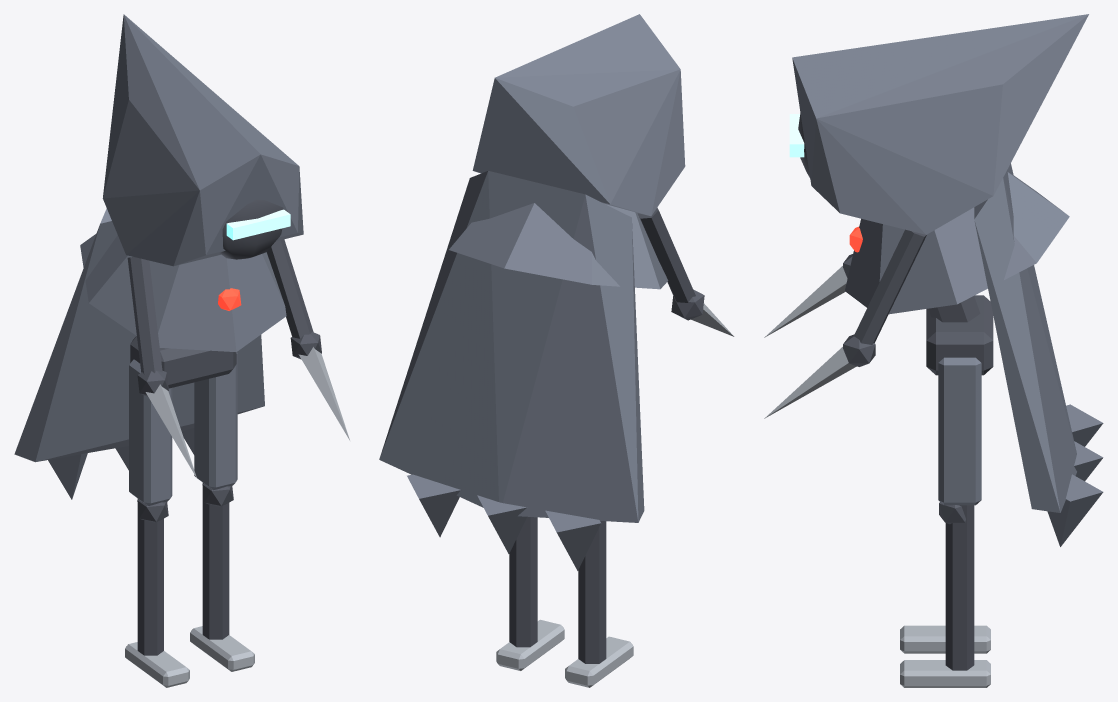
Rendered from cloaker.glb.
3 views of the same model, side by side, from view 1: azimuth 30°, elevation 25°; view 2: azimuth 150°, elevation 25°; view 3: azimuth 270°, elevation 25° (orthographic). The views are drawn at different scales.
Parts seen in each view (by area): view 1: Hood, Cape, Cone, Cube.001, Cube.003, Cylinder, Cylinder.001, Cylinder.003, Cube, Cylinder.004, Sphere, Cube.002 (+9 smaller); view 2: Cape, Hood, Cone, Cylinder.001, Cylinder, Cylinder.003, Cone.001, Cube.002, Cone.003, Cube.004, Cone.002, Icosphere.003; view 3: Hood, Cape, Cone, Cube.001, Cylinder, Cube, Cylinder.004, Cube.002, Cube.004, Cone.003, Cone.005, Cone.004 (+5 smaller).
Boxes of the visible parts, <box> form: Hood: <box>102,14,303,266</box>; Cape: <box>14,208,264,462</box>; Cone: <box>80,233,286,352</box>; Cube.001: <box>194,352,237,490</box>; Cube.003: <box>129,359,172,505</box>; Cylinder: <box>202,483,229,639</box>; Cylinder.001: <box>137,498,163,655</box>; Cylinder.003: <box>127,257,162,374</box>; Cube: <box>130,336,236,388</box>; Cylinder.004: <box>266,239,313,338</box>; Sphere: <box>220,199,283,259</box>; Cube.002: <box>190,626,254,671</box>; Cape: <box>379,170,644,522</box>; Hood: <box>472,14,685,216</box>; Cone: <box>449,203,668,289</box>; Cylinder.001: <box>578,521,606,663</box>; Cylinder: <box>509,516,537,647</box>; Cylinder.003: <box>637,207,695,302</box>; Cone.001: <box>545,510,600,570</box>; Cube.002: <box>496,619,564,670</box>; Cone.003: <box>407,474,460,537</box>; Cube.004: <box>565,636,633,687</box>; Cone.002: <box>477,495,526,553</box>; Icosphere.003: <box>671,289,704,320</box>; Hood: <box>792,14,1088,234</box>; Cape: <box>974,163,1076,512</box>; Cone: <box>845,172,1069,314</box>; Cube.001: <box>938,357,981,505</box>; Cylinder: <box>945,505,974,670</box>; Cube: <box>926,295,993,375</box>; Cylinder.004: <box>854,229,926,344</box>; Cube.002: <box>900,660,990,687</box>; Cube.004: <box>900,625,990,653</box>; Cone.003: <box>1047,474,1103,546</box>; Cone.005: <box>764,347,856,418</box>; Cone.004: <box>764,266,847,337</box>.
Size of the model in its own units: 0.64 by 1.5 by 0.7097.
